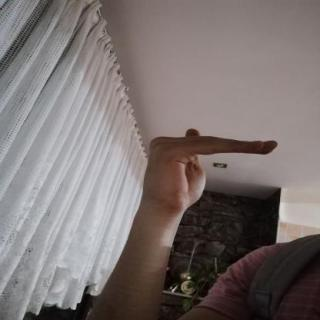KHAA: (130, 119, 292, 226)
